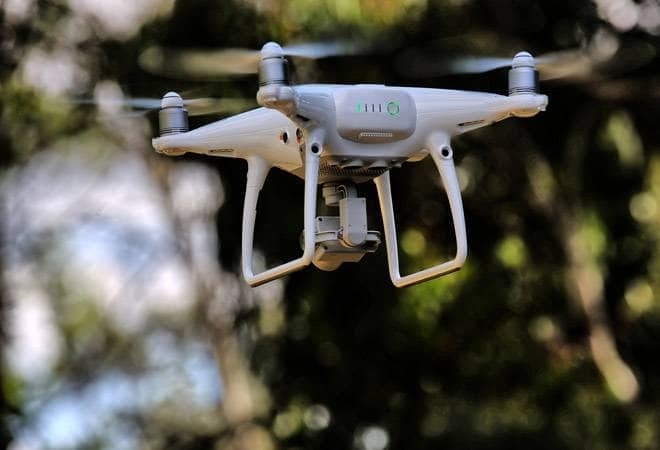drone: (45, 33, 590, 292)
